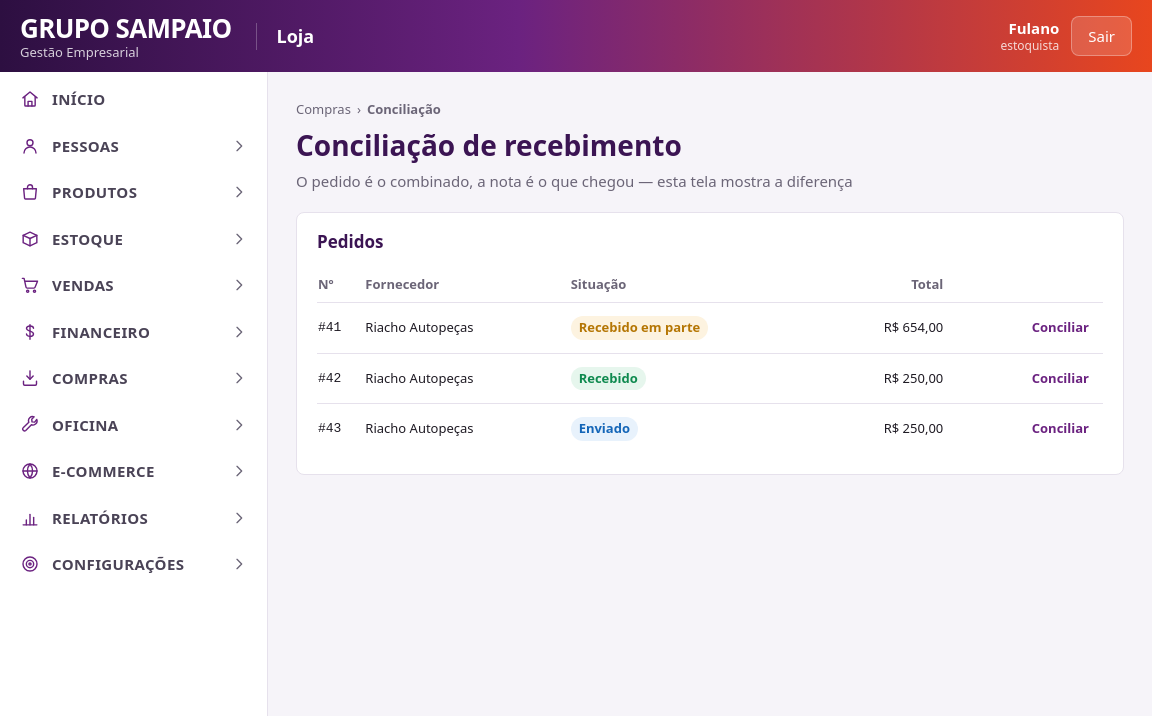
a régua por linha — a mesma do recalcReceived, projetada na tela › o pedido 41 mostra cada espécie de divergência com nome, linha a linha
Click the button "Conciliar" in the row of "41": [1060, 328] box left=1019, top=311, right=1102, bottom=344
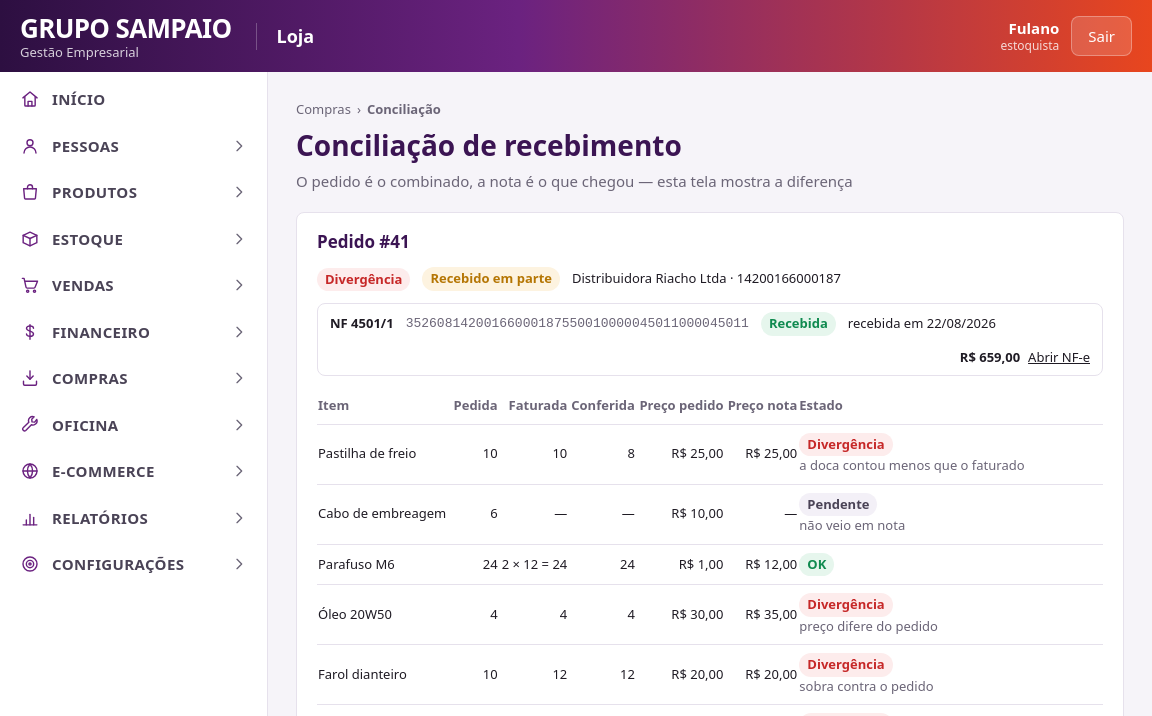
expect the text "Pastilha de freio" is shown: met, box left=318, top=444, right=416, bottom=462
expect the text "Distribuidora Riacho Ltda · 14200166000187" is shown: met, box left=572, top=269, right=841, bottom=288
expect the text "NF 4501/1" is shown: met, box left=330, top=314, right=394, bottom=334
